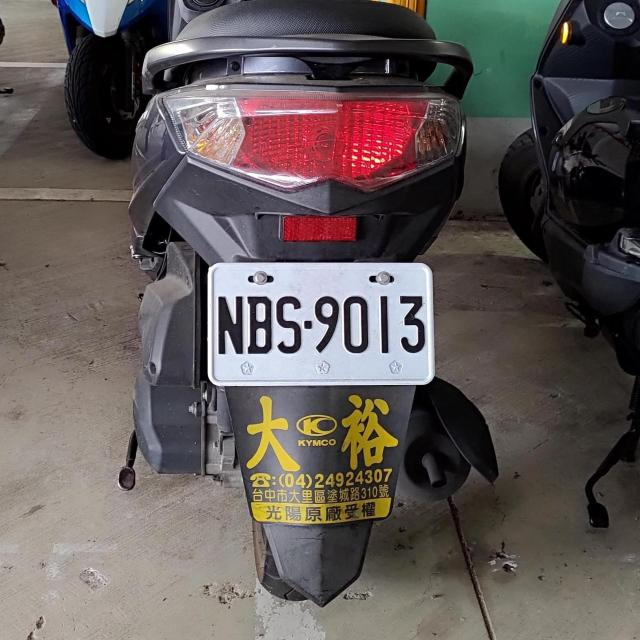W: (205, 259, 434, 388)
